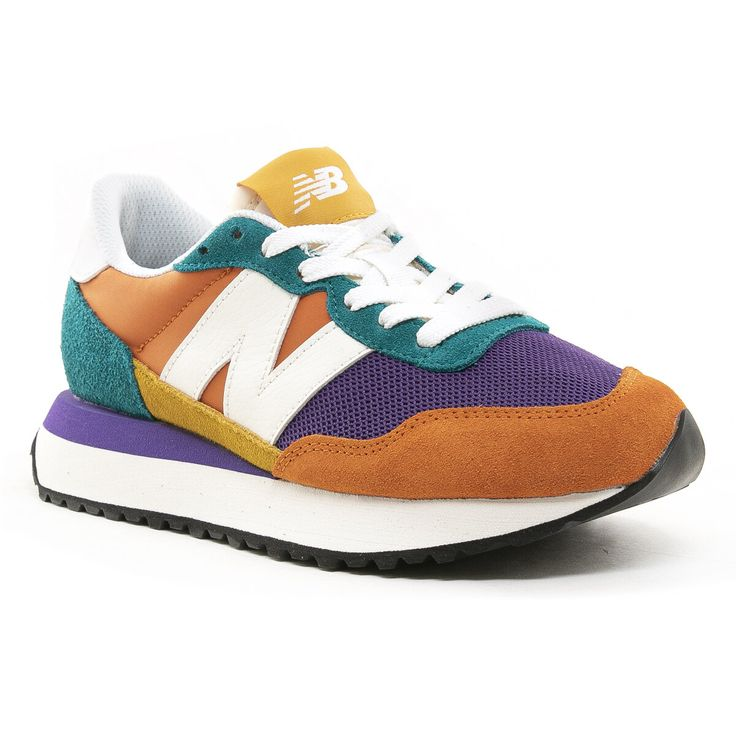gamuza: (60, 217, 685, 498)
